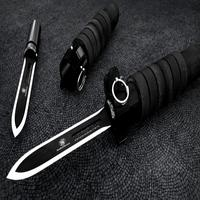knife: (2, 41, 198, 184), (8, 17, 44, 148)
